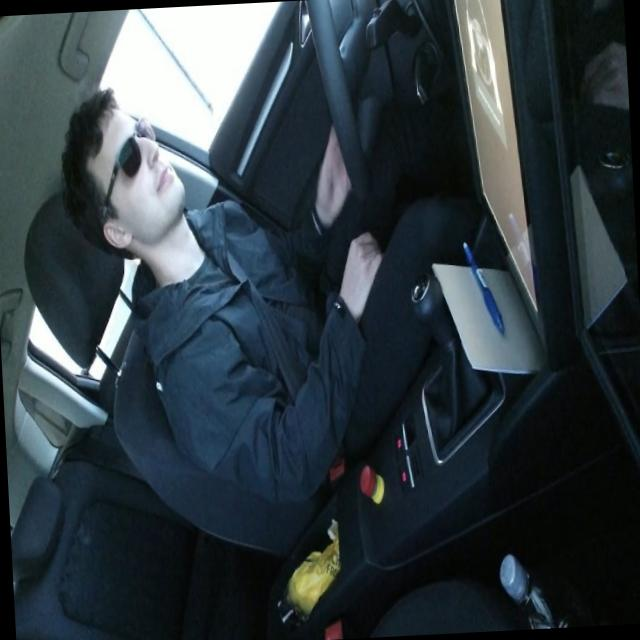pen: (462, 237, 506, 337)
